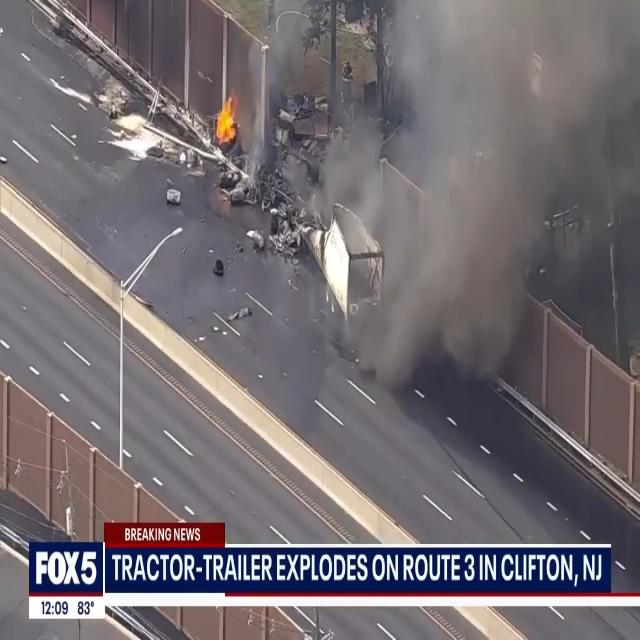fire: (208, 90, 238, 148)
